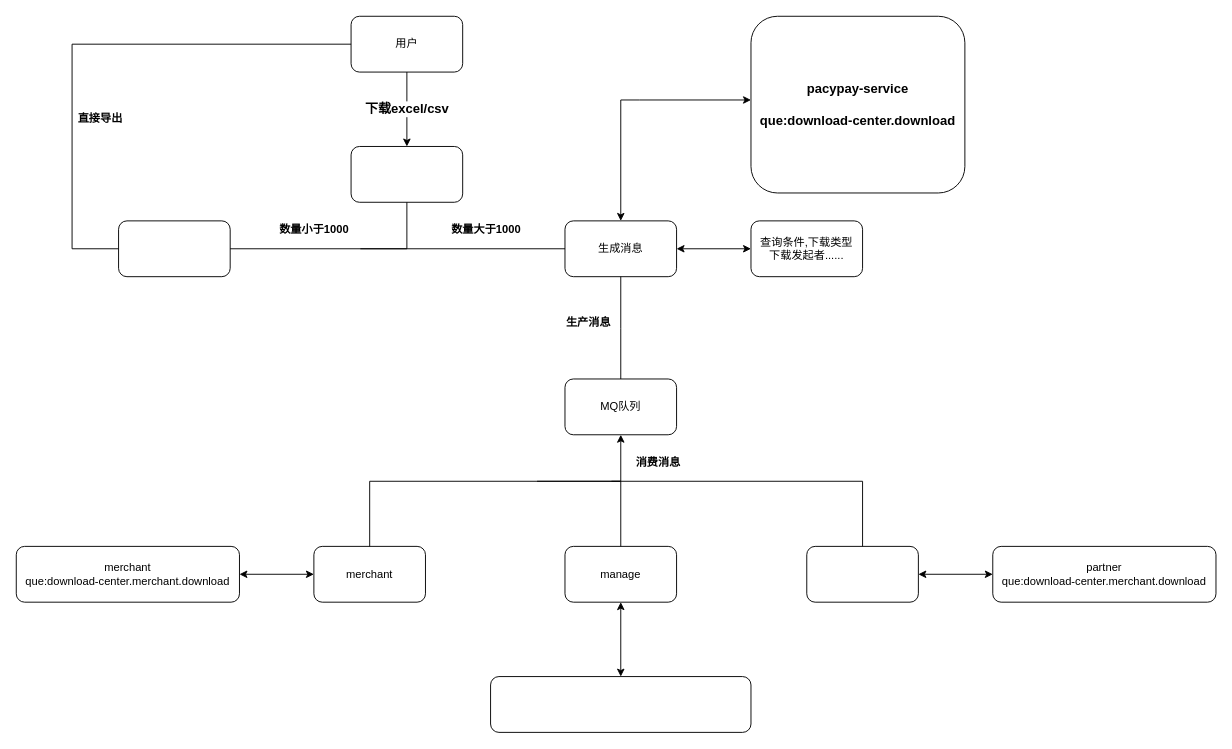
This 1232x749 diagram has some shape labels left out. Here are the shapes that lost their labels. From the top down, the centre of each, then its label:
the point at 406,174: Server manage,merchant..
the point at 174,248: 生成表格
the point at 862,573: partner
the point at 620,704: manage que:download-center.manage.download
